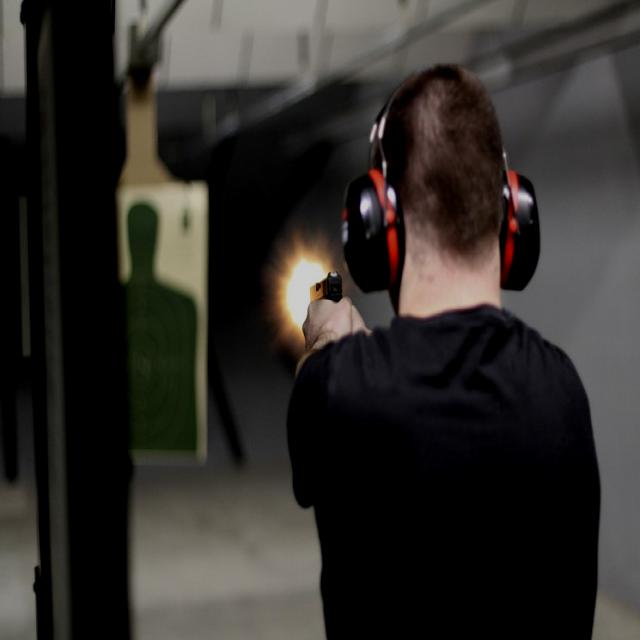pistol: (304, 268, 351, 332)
